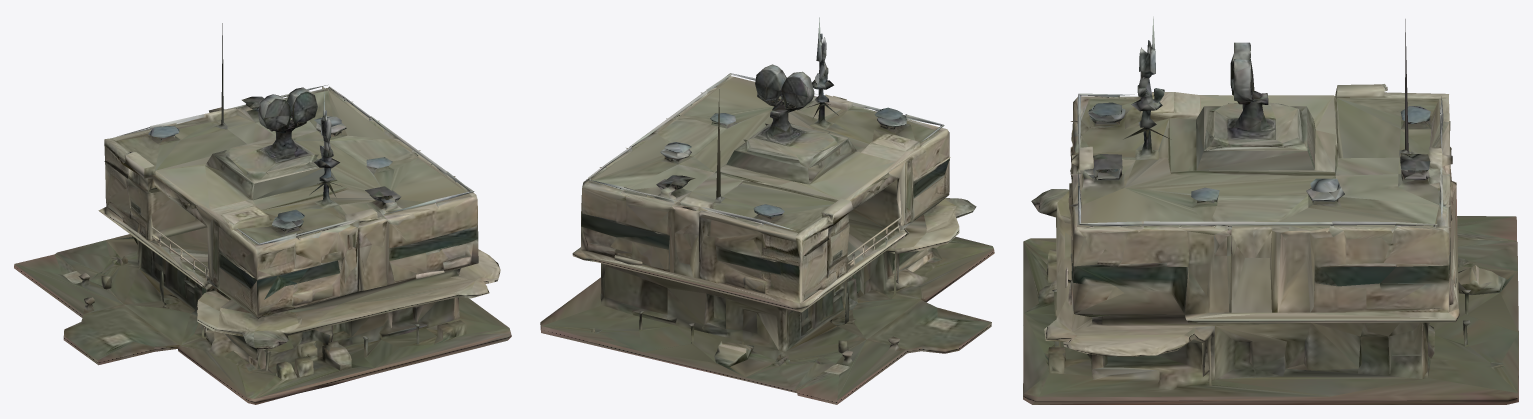
The picture shows the model from 3 angles, left to right: view 1: azimuth 30°, elevation 25°; view 2: azimuth 150°, elevation 25°; view 3: azimuth 270°, elevation 25°; orthographic projection. The views are drawn at different scales.
Size of the model in its own units: 26 by 17.34 by 25.17.
1 material, 1 textured.
